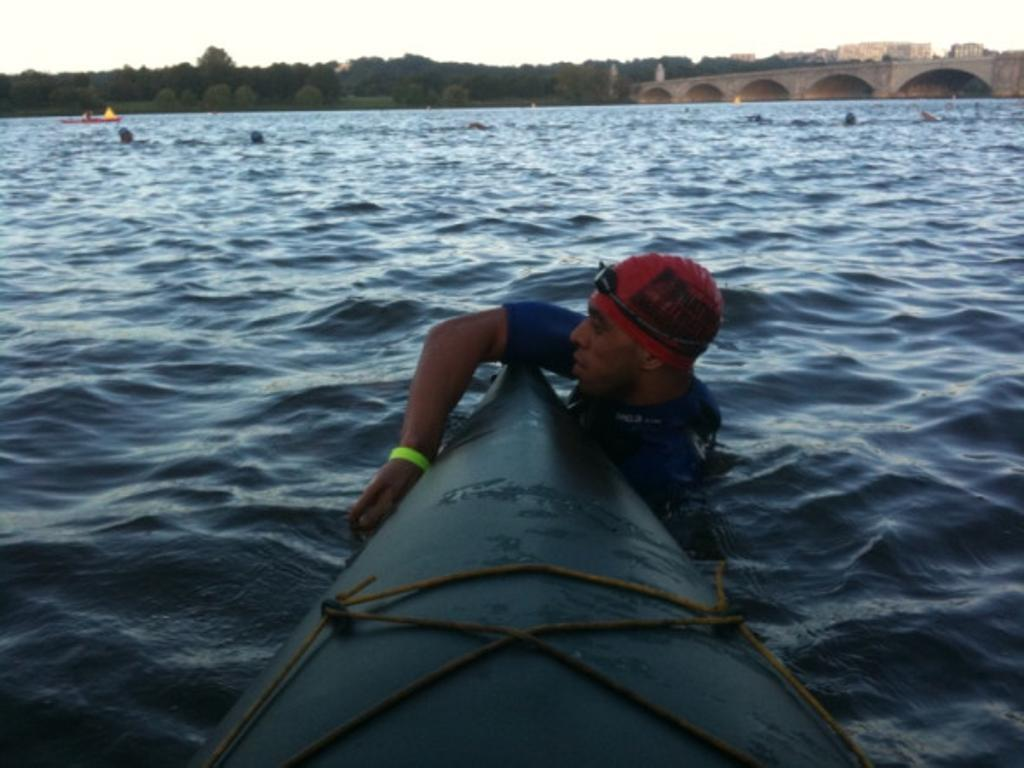face: (571, 303, 631, 385)
